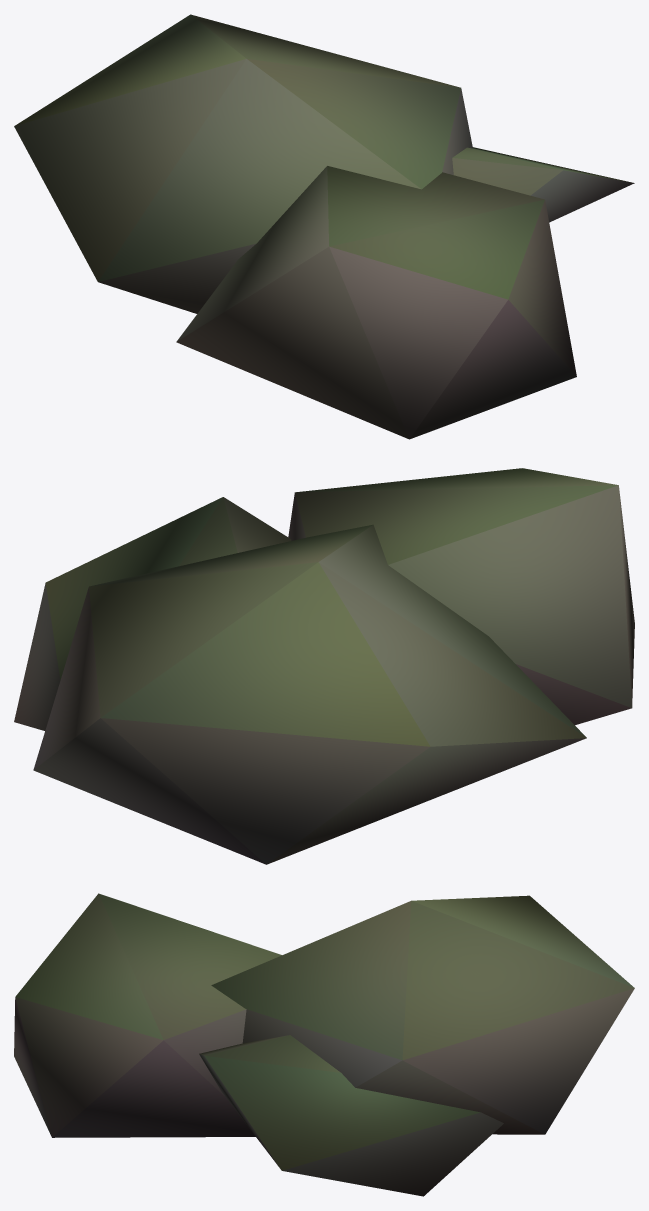
The model's file is rock_bk_foret_broceliande_0002.glb.
3 renders of one model, top to bottom at view 1: azimuth 30°, elevation 25°; view 2: azimuth 150°, elevation 25°; view 3: azimuth 270°, elevation 25°, orthographic. The views are drawn at different scales.
Parts seen in each view (by area): view 1: rock_bk_002; view 2: rock_bk_002; view 3: rock_bk_002.
Boxes of the visible parts, x1=… form: rock_bk_002: x1=14, y1=14, x2=634, y2=439; rock_bk_002: x1=14, y1=468, x2=634, y2=864; rock_bk_002: x1=14, y1=893, x2=634, y2=1196.
Bounding box in the file's own units: 3.06 × 1.2 × 3.61.
